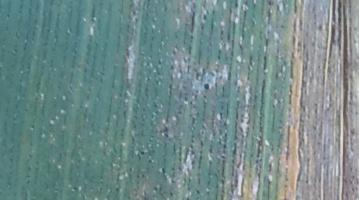tarspot: (216, 48, 222, 61), (202, 82, 210, 91), (162, 124, 170, 133), (160, 166, 167, 175), (5, 13, 12, 20), (168, 190, 174, 198), (316, 23, 322, 31), (202, 13, 207, 22), (266, 1, 273, 7), (139, 150, 147, 155), (233, 1, 238, 9), (163, 132, 169, 138), (195, 188, 200, 195)
